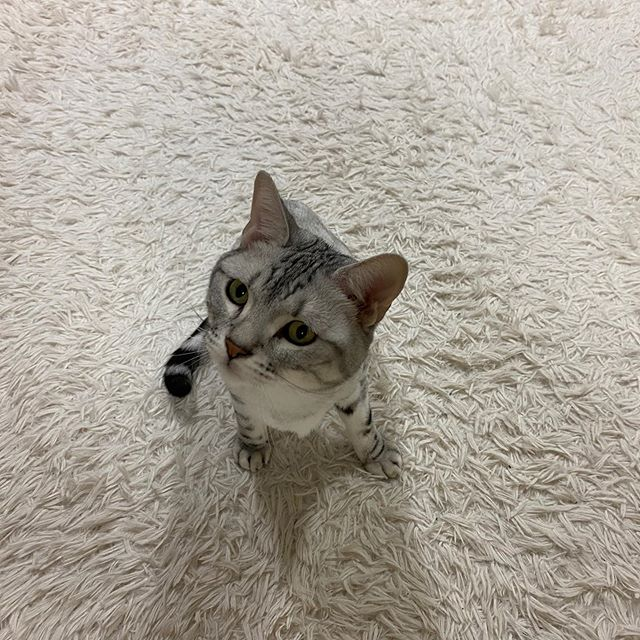cat: (207, 168, 414, 393)
